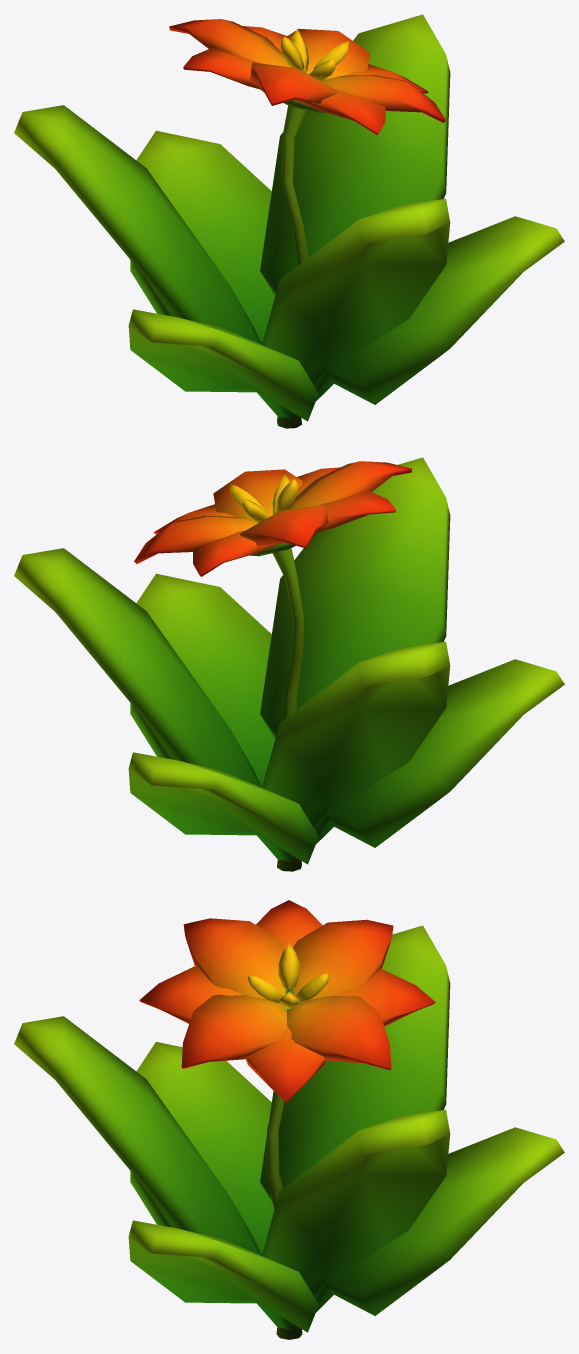
File: SM_Flower_3.fbx
3 views of the same model, one above another, from view 1: azimuth 30°, elevation 25°; view 2: azimuth 150°, elevation 25°; view 3: azimuth 270°, elevation 25° (orthographic).
Parts seen in each view (by area): view 1: SM_Flower_3; view 2: SM_Flower_3; view 3: SM_Flower_3.
Boxes of the visible parts, bbox=[...] form: SM_Flower_3: bbox=[14, 14, 564, 428]; SM_Flower_3: bbox=[14, 457, 564, 871]; SM_Flower_3: bbox=[14, 900, 564, 1339].
Size of the model in its own units: 48.02 by 43.1 by 55.44.
1 material, 1 textured.
